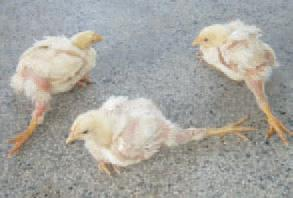AbNormal: (66, 97, 239, 178), (192, 23, 293, 138), (10, 25, 100, 153)
